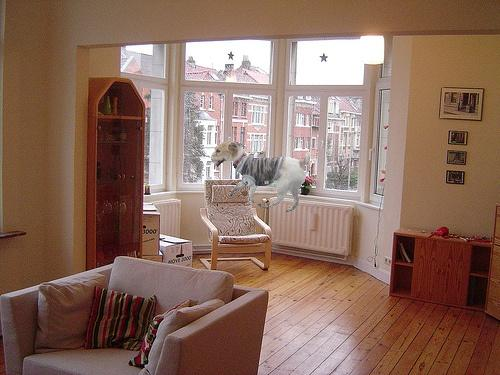tampered: (212, 142, 310, 212)
